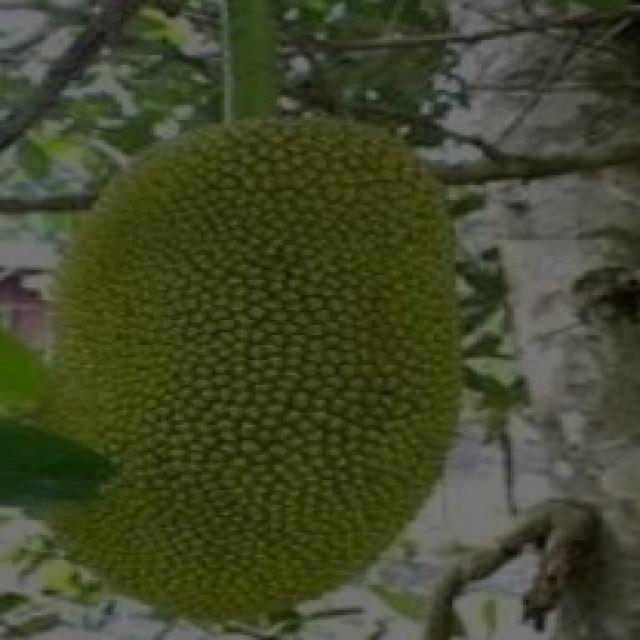Fruit: (95, 80, 511, 392)
